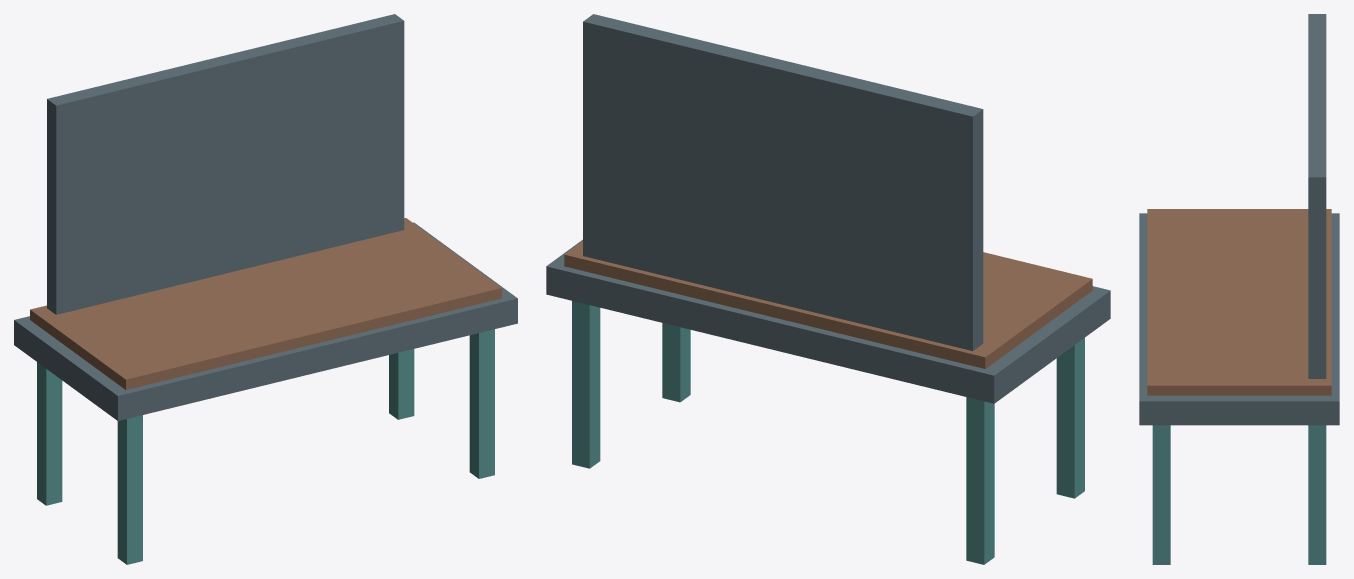
File: EngineeringWorkbench.glb
3 views of the same model, side by side, from view 1: azimuth 30°, elevation 25°; view 2: azimuth 150°, elevation 25°; view 3: azimuth 270°, elevation 25° (orthographic). The views are drawn at different scales.
Visible parts, largest first — view 1: EngineeringWorkbench; view 2: EngineeringWorkbench; view 3: EngineeringWorkbench.
Boxes of the visible parts, <box> form: EngineeringWorkbench: <box>14,14,517,564</box>; EngineeringWorkbench: <box>546,14,1110,564</box>; EngineeringWorkbench: <box>1139,14,1339,564</box>.
Bounding box in the file's own units: 2 × 1.9 × 0.9.
